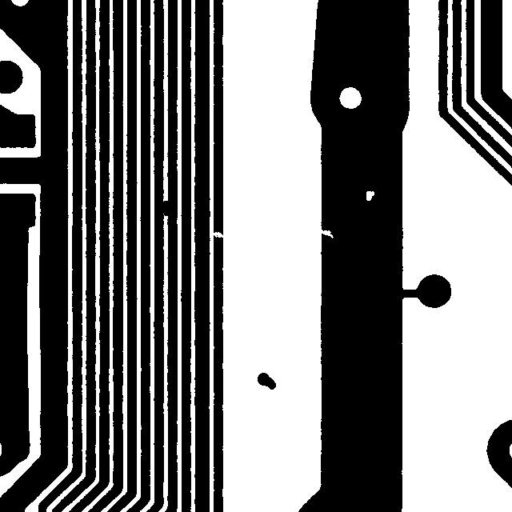copper: (250, 365, 283, 397)
mousebite: (311, 221, 341, 246)
open: (203, 224, 231, 245)
pin-hole: (358, 183, 382, 208)
short: (153, 193, 181, 223)
